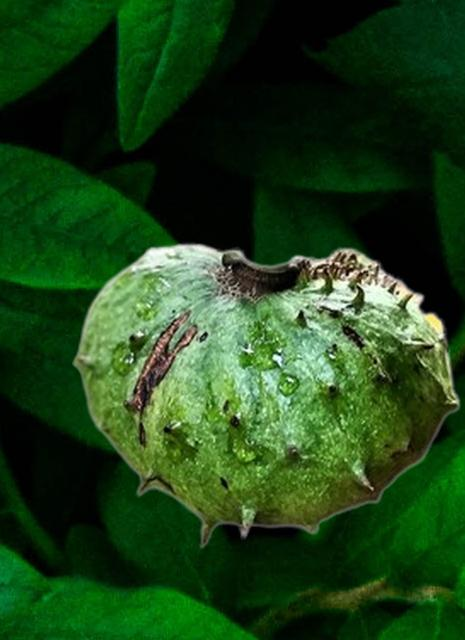guyabano: (72, 242, 460, 548)
